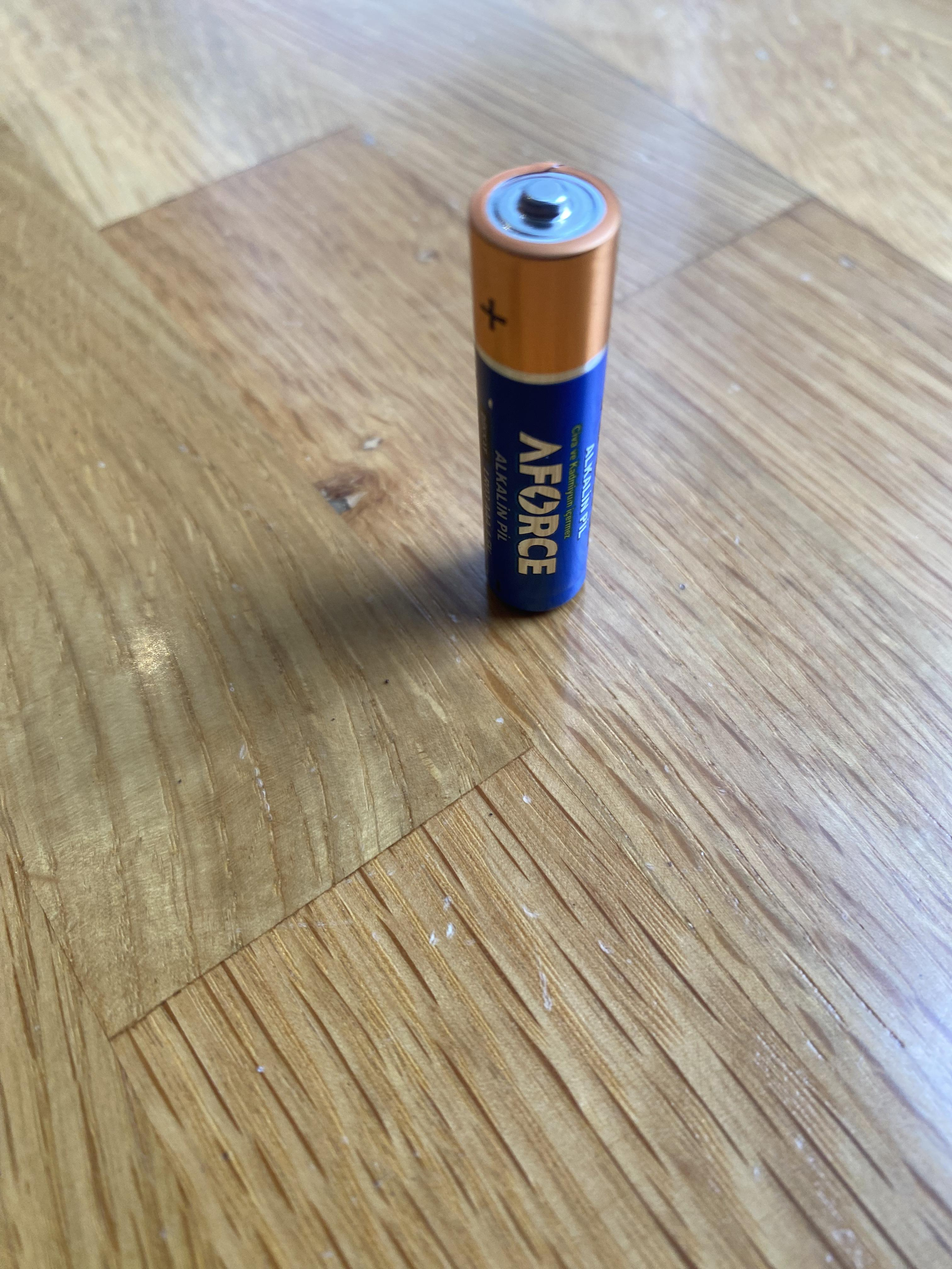AAA: (466, 159, 621, 615)
